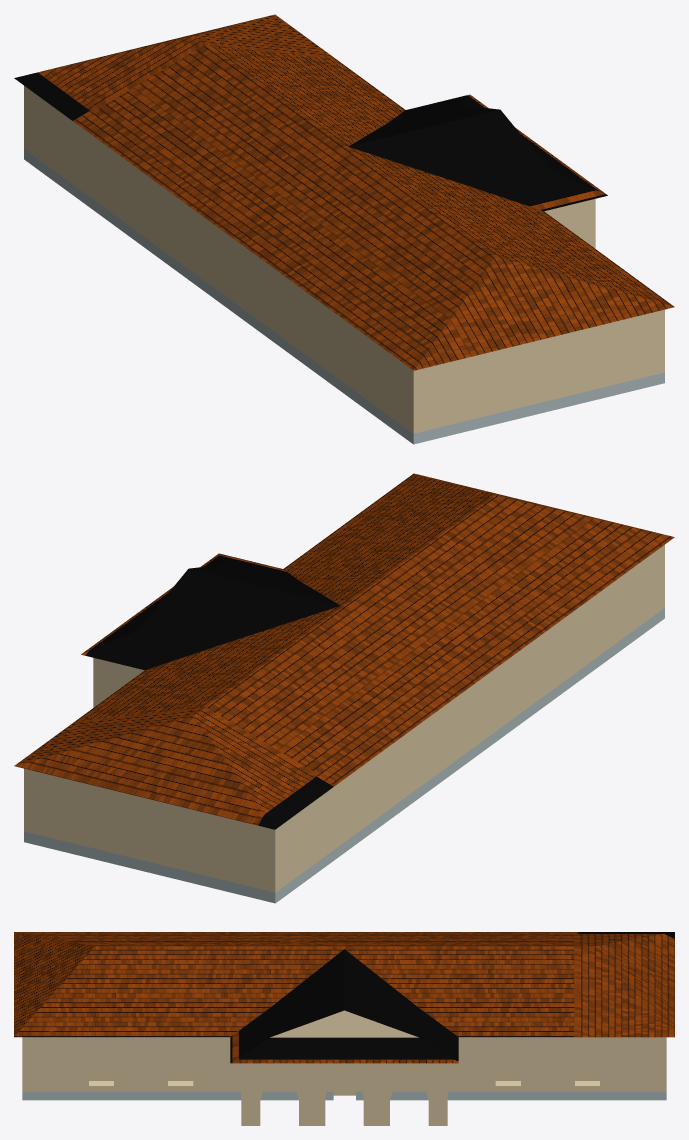
The model's file is refeitorio.fbx.
3 views of the same model, one above another, from view 1: azimuth 30°, elevation 25°; view 2: azimuth 150°, elevation 25°; view 3: azimuth 270°, elevation 25° (orthographic). The views are drawn at different scales.
Parts seen in each view (by area): view 1: refeitorio; view 2: refeitorio; view 3: refeitorio.
Boxes of the visible parts, x1,y1,x2,y2 form: refeitorio: (14, 14, 674, 444); refeitorio: (14, 473, 674, 903); refeitorio: (14, 932, 674, 1125).
Size of the model in its own units: 2151 by 790 by 4580.
Materials: 3 (1 with a texture image).
